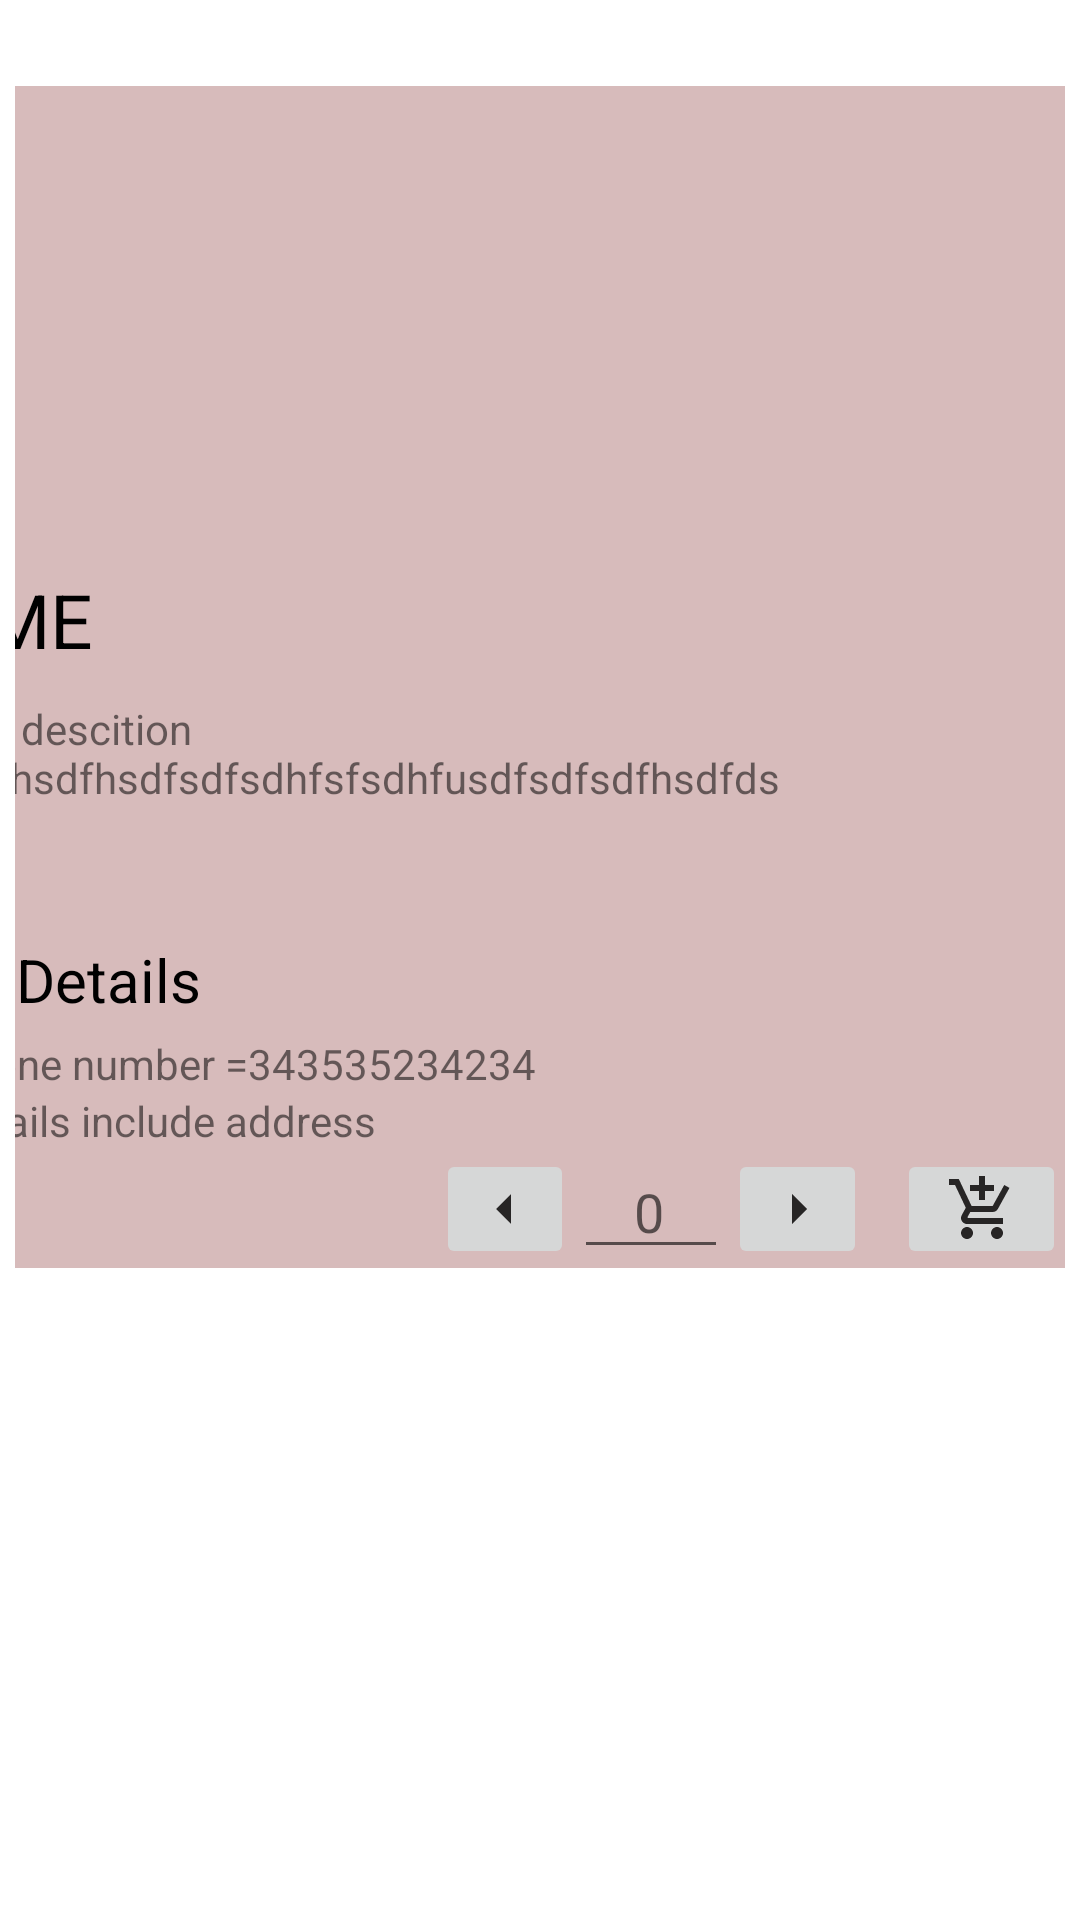

Named icons in this screenshot (1080x1920) and their centers, (x,y):
add shopping cart: (981,1208)
arrow left: (505,1209)
arrow right: (797,1209)
